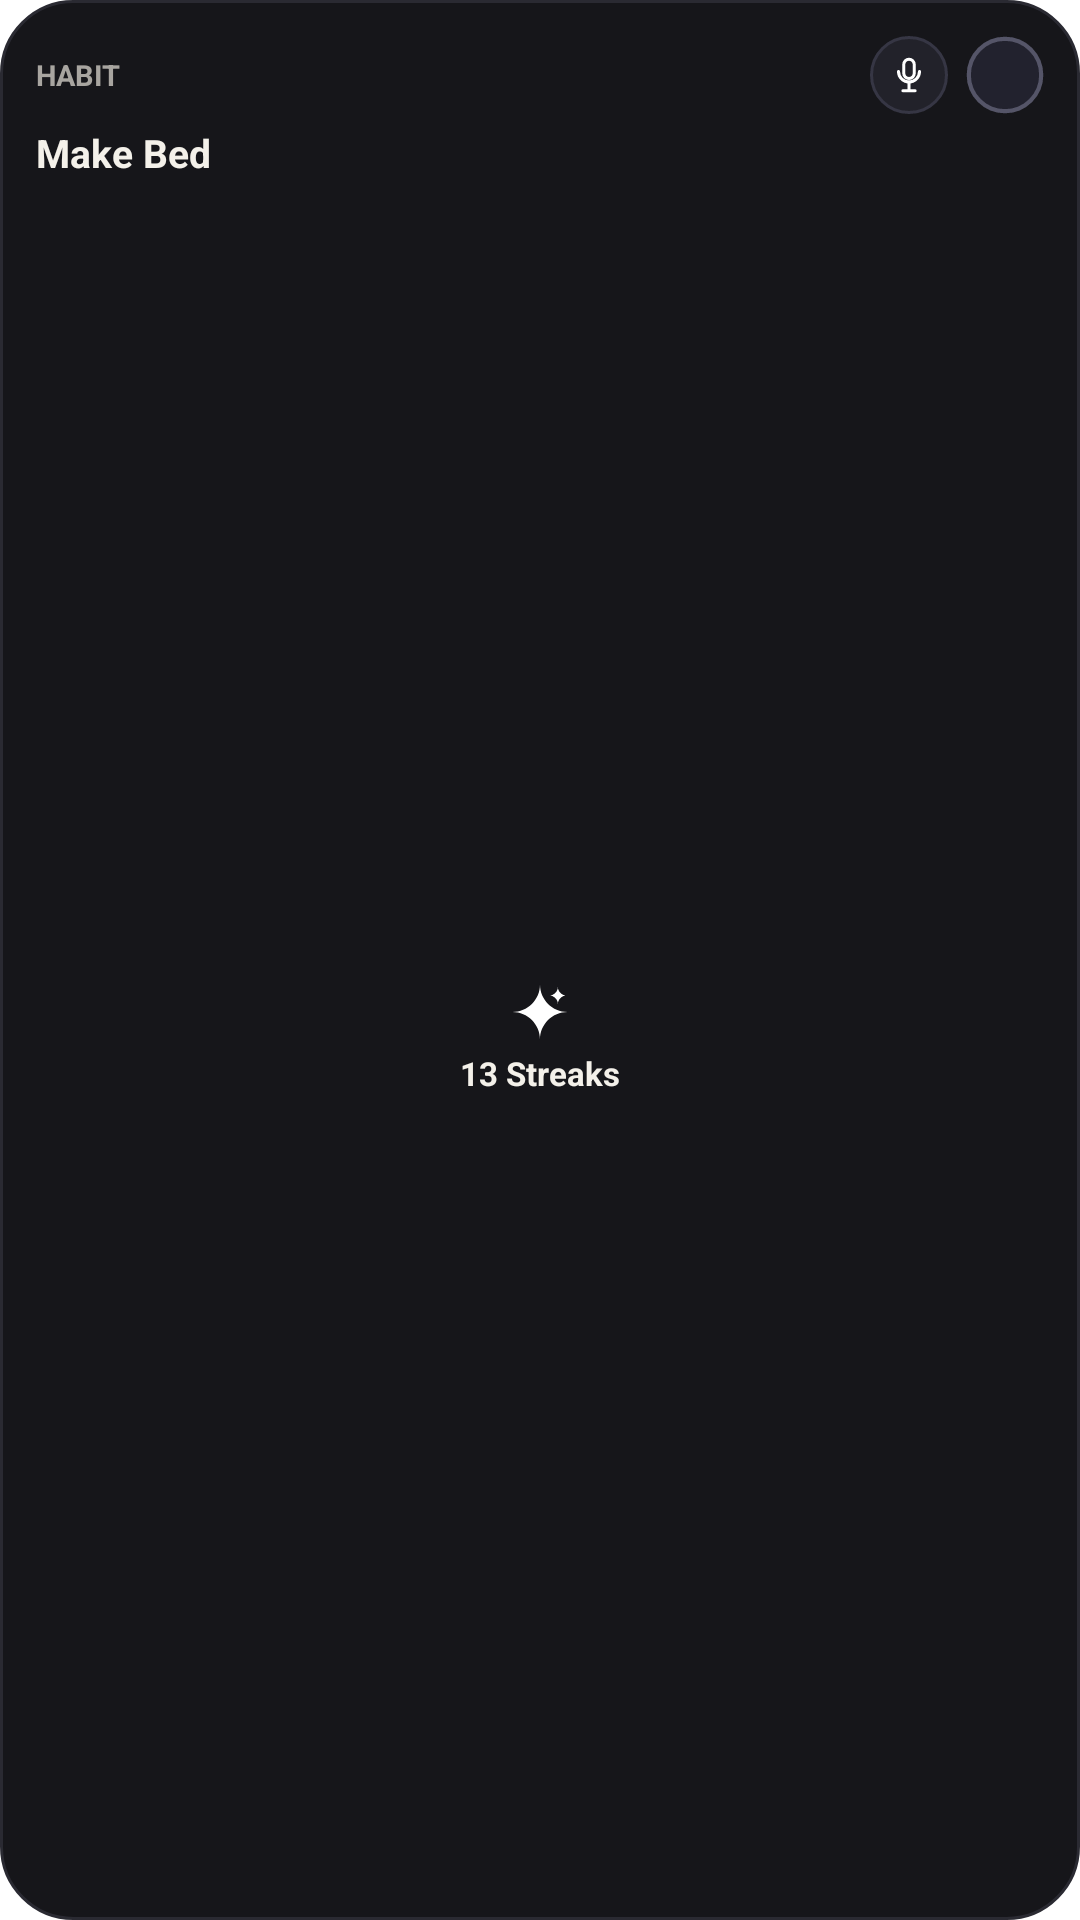

Icons on this 1080x1920 Android screen, each with its box as (x1, y1, x2, y2):
achievements spark: (514, 986, 566, 1038)
mic minimal: (897, 57, 921, 93)
